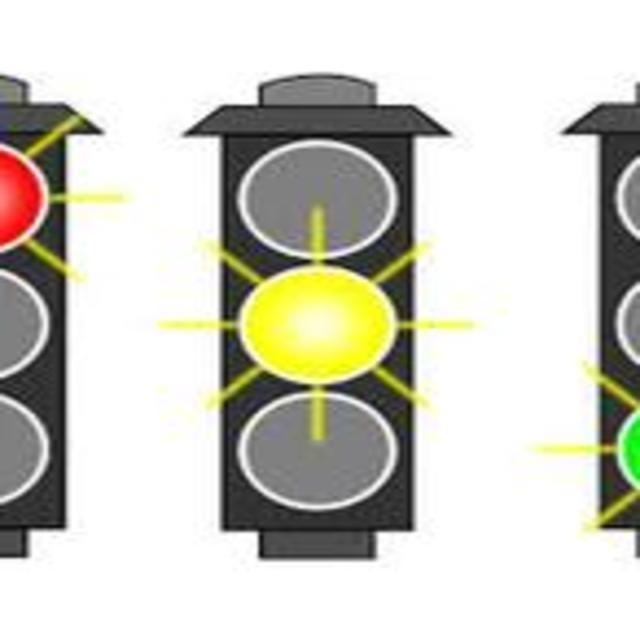yellow_light: (160, 72, 448, 560)
